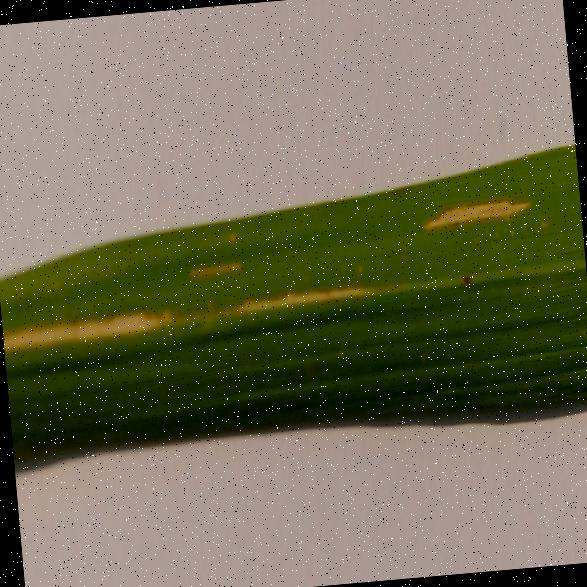Bacteria_Leaf_Blight: (1, 274, 400, 352), (415, 176, 550, 262)
